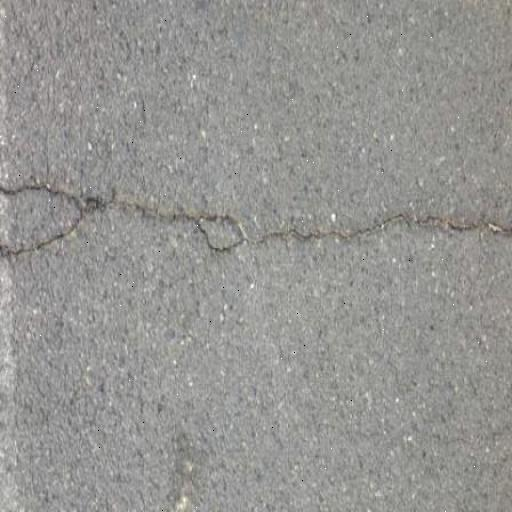spalling: (4, 172, 492, 269), (7, 207, 106, 280)
